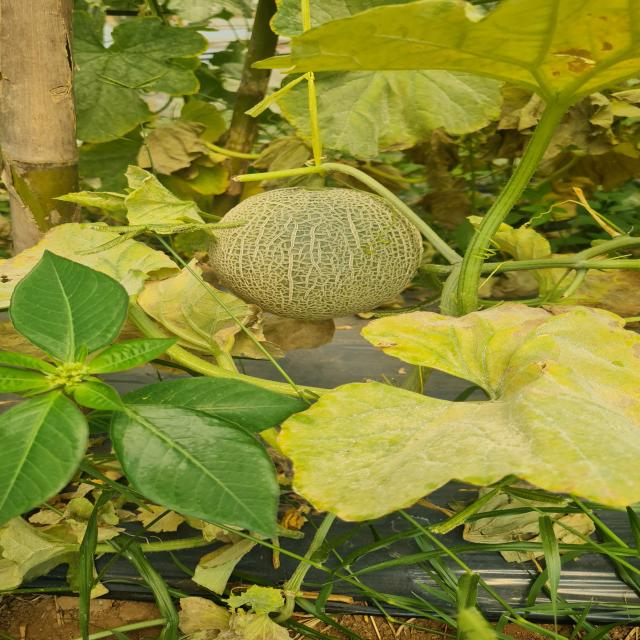melon: (209, 188, 422, 320)
